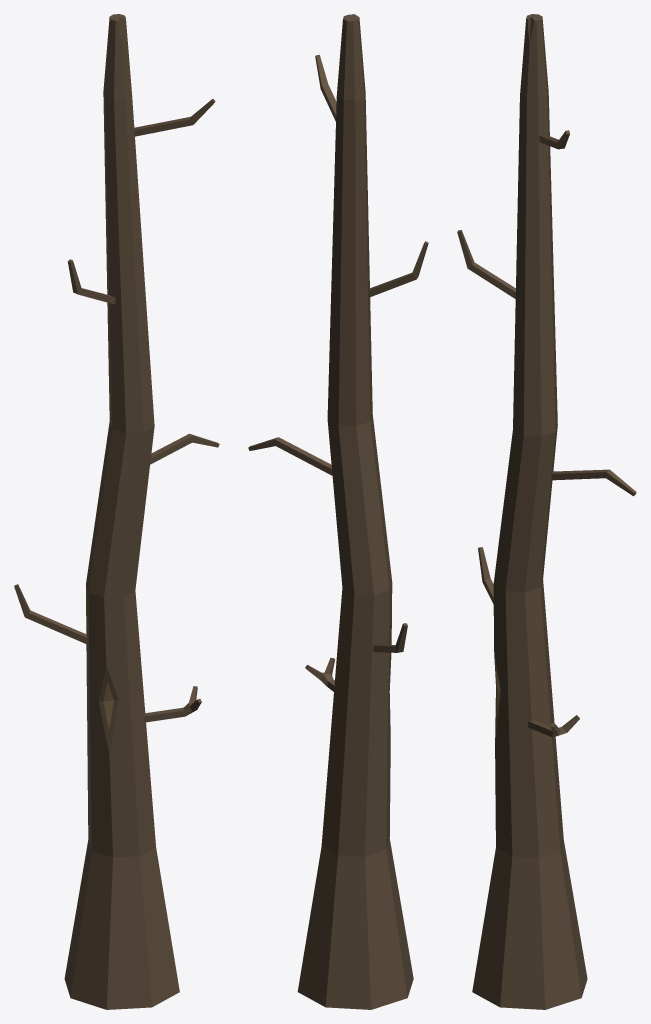
File: SM_Envr_Nature_Tree_Pine_Dead_02.fbx
The picture shows the model from 3 angles, left to right: view 1: azimuth 30°, elevation 25°; view 2: azimuth 150°, elevation 25°; view 3: azimuth 330°, elevation 25°; orthographic projection.
Visible parts, largest first — view 1: SM_Envr_Nature_Tree_Pine_Dead_02; view 2: SM_Envr_Nature_Tree_Pine_Dead_02; view 3: SM_Envr_Nature_Tree_Pine_Dead_02.
Boxes of the visible parts, x1,y1,x2,y2 form: SM_Envr_Nature_Tree_Pine_Dead_02: [14, 14, 219, 1009]; SM_Envr_Nature_Tree_Pine_Dead_02: [248, 14, 428, 1009]; SM_Envr_Nature_Tree_Pine_Dead_02: [457, 14, 636, 1009].
Size of the model in its own units: 200 by 1020 by 114.
